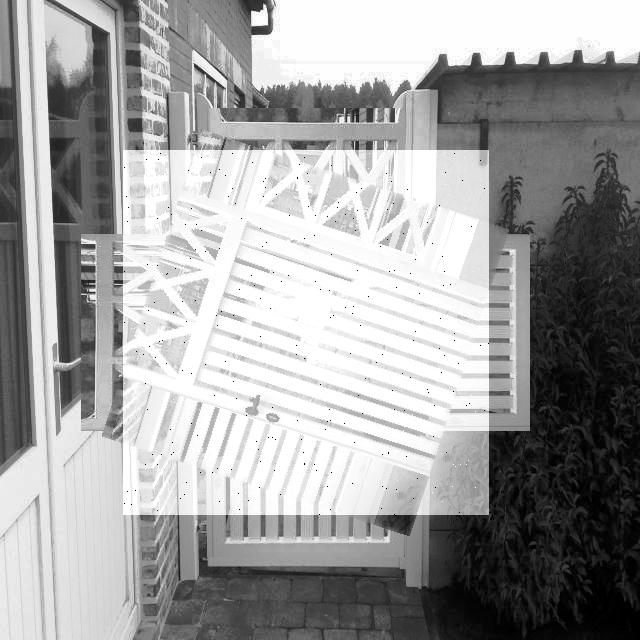fences: (123, 150, 489, 515)
